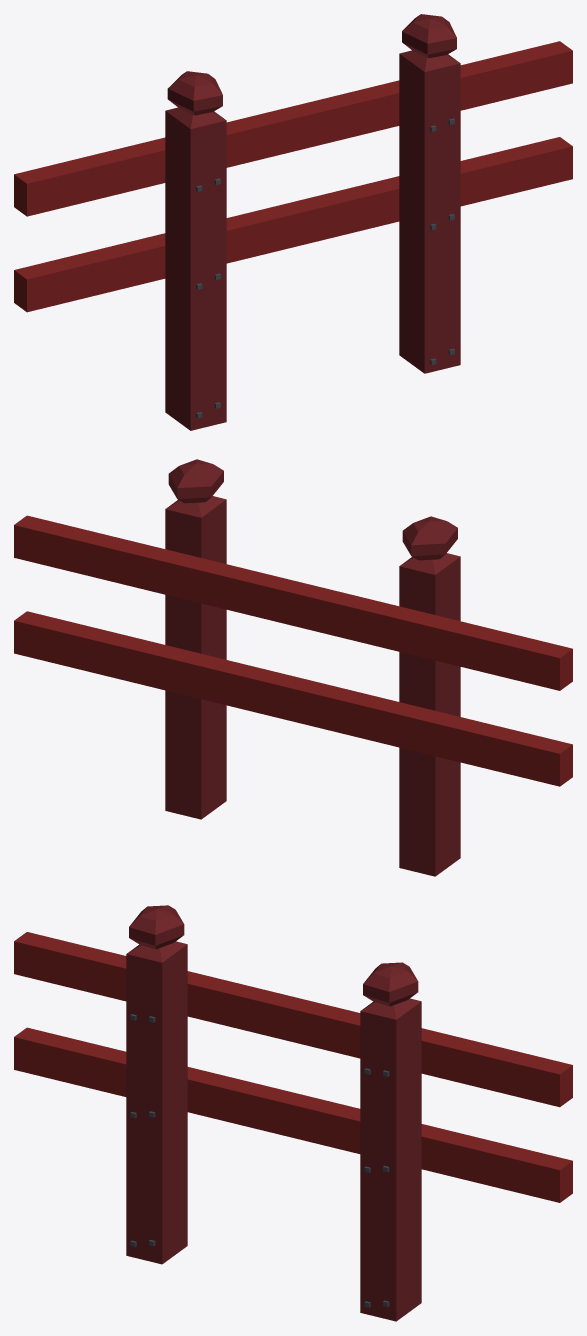
The model's file is Fence_3_1 Asia.fbx.
3 views of the same model, one above another, from view 1: azimuth 30°, elevation 25°; view 2: azimuth 150°, elevation 25°; view 3: azimuth 330°, elevation 25° (orthographic).
Parts seen in each view (by area): view 1: Fence_3_1; view 2: Fence_3_1; view 3: Fence_3_1.
Part boxes in pixels (left/top/right/bottom): Fence_3_1: left=14, top=14, right=572, bottom=430; Fence_3_1: left=14, top=459, right=572, bottom=876; Fence_3_1: left=14, top=905, right=572, bottom=1321.
Bounding box in the file's own units: 1.73 × 1.04 × 0.222.
